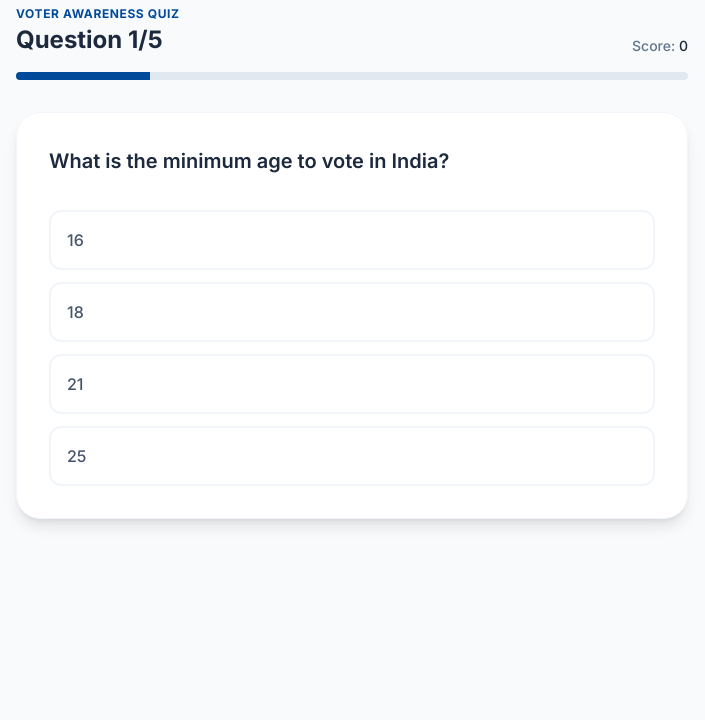
Test case: Quiz Component › should highlight wrong answer and show explanation when incorrect answer is selected
Click the button "16": coordinates (75, 240) [49,210,655,270]
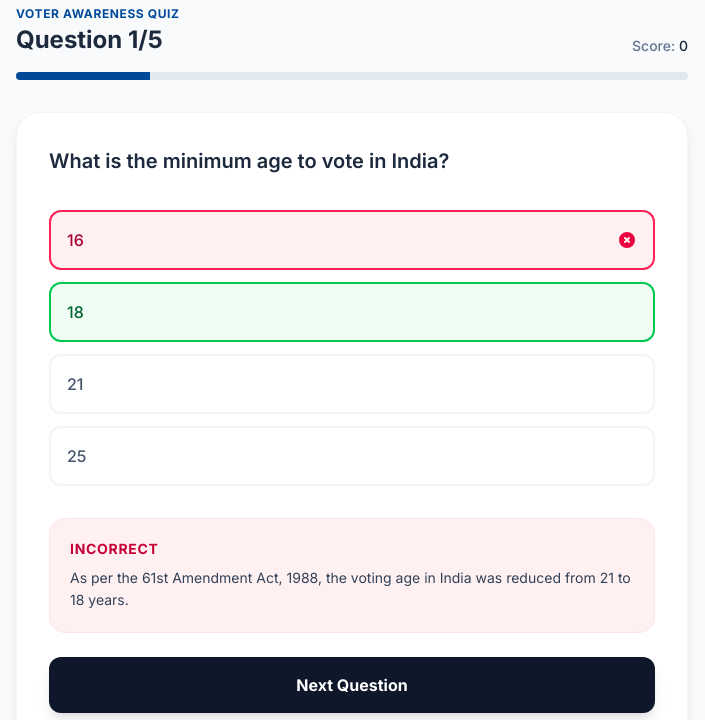
Now the heading "Incorrect" is shown, box [70,540,159,556]
Now the text "As per the 61st Amendment Act, 1988, the voting age in India was reduced from 21 to 18 years." is shown, box [70,568,631,608]
